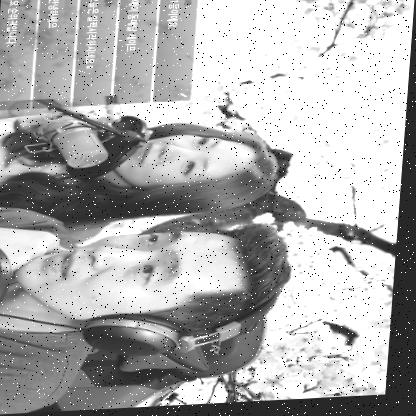streamer: (0, 190, 300, 415), (0, 90, 286, 248)
